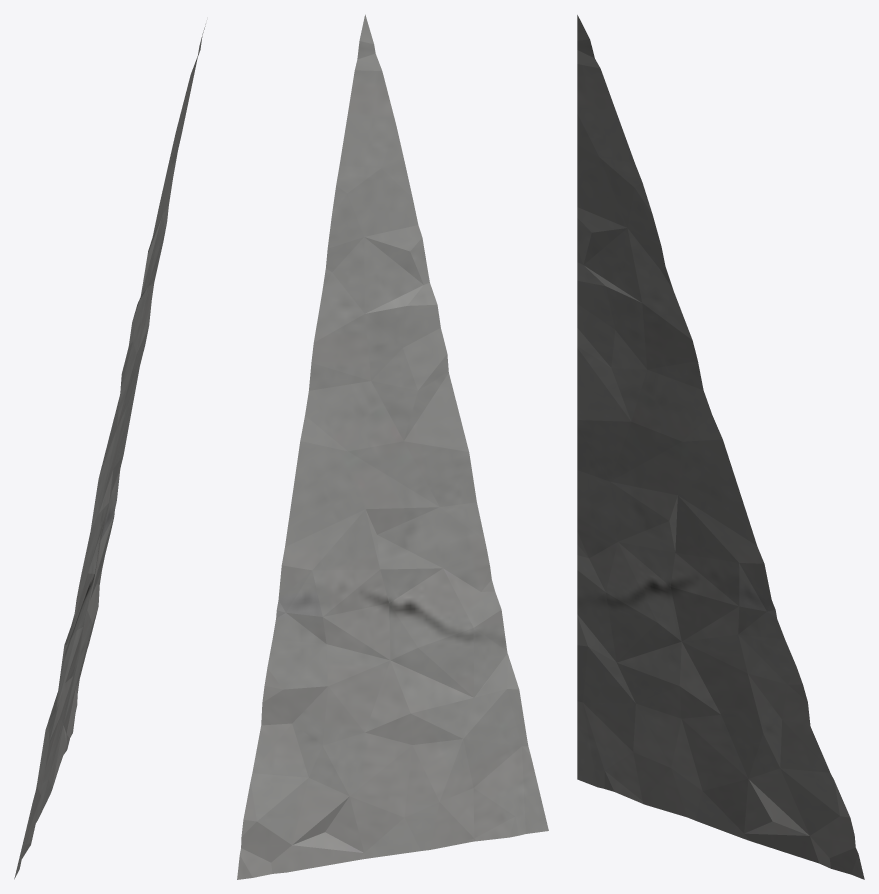
The picture shows the model from 3 angles, left to right: view 1: azimuth 30°, elevation 25°; view 2: azimuth 150°, elevation 25°; view 3: azimuth 270°, elevation 25°; orthographic projection. The views are drawn at different scales.
Size of the model in its own units: 0.169 by 0.6787 by 0.2042.
Materials: 1 (1 with a texture image).
